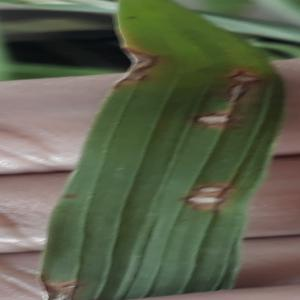1 RiceBlast: (106, 35, 164, 96), (185, 99, 238, 142), (226, 62, 273, 89), (220, 83, 262, 113), (186, 192, 231, 214), (193, 174, 235, 196)
